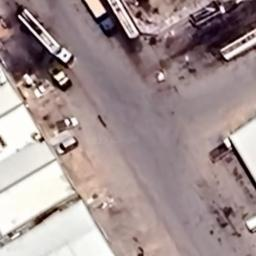pickup: (54, 113, 78, 133), (32, 81, 54, 100)
truck: (14, 5, 78, 70), (76, 0, 120, 38), (106, 0, 141, 43), (218, 26, 256, 64)
van: (54, 136, 80, 158)
